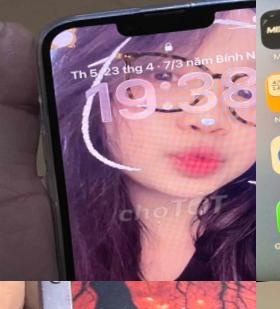scratch: (33, 281, 82, 302)
